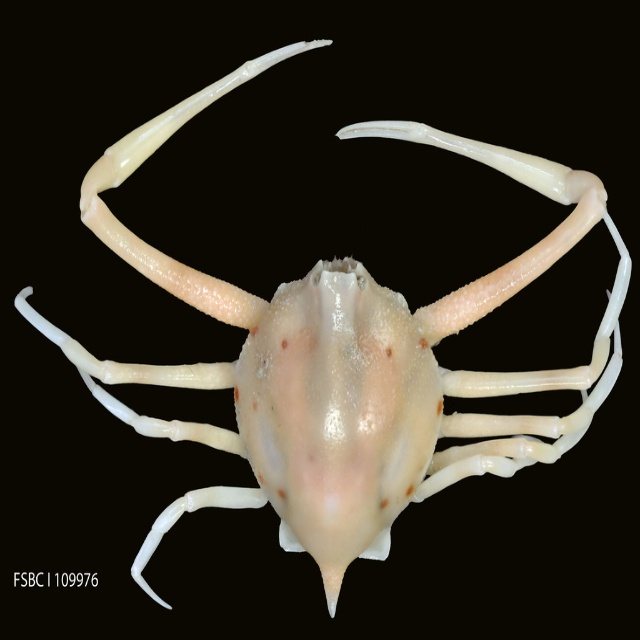Crab: (13, 30, 634, 623)
